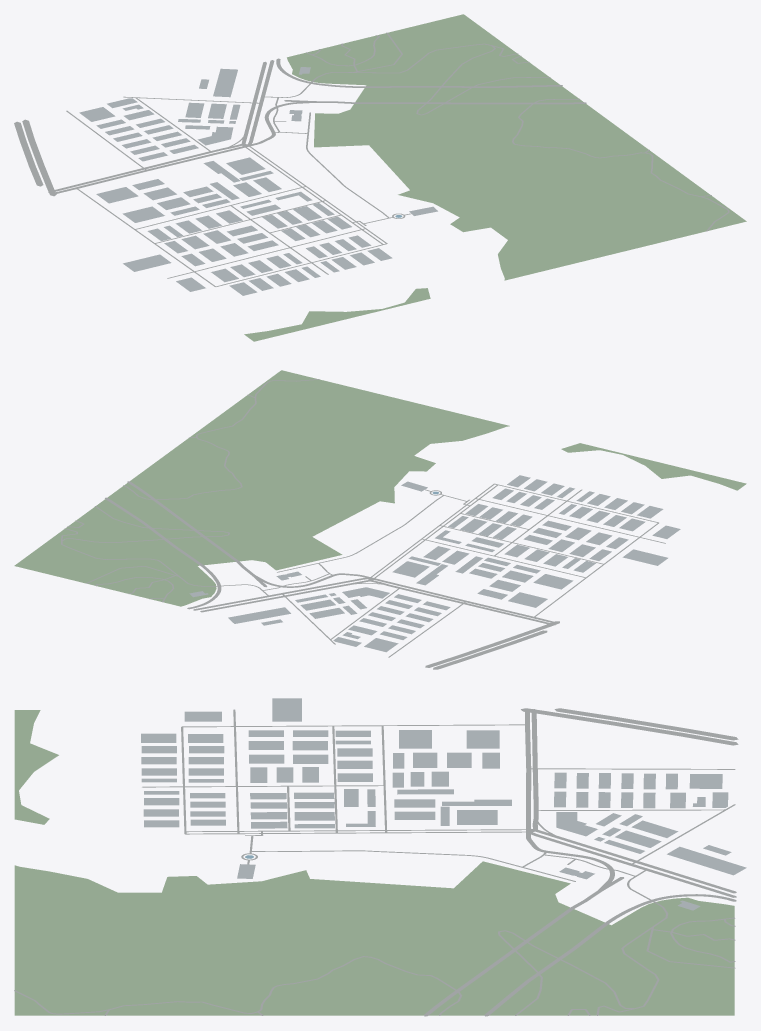
Rendered from -20_15-known-coarse.glb.
3 views of the same model, one above another, from view 1: azimuth 30°, elevation 25°; view 2: azimuth 150°, elevation 25°; view 3: azimuth 270°, elevation 25° (orthographic). The views are drawn at different scales.
Size of the model in its own units: 1040 by 0.15 by 1013.
